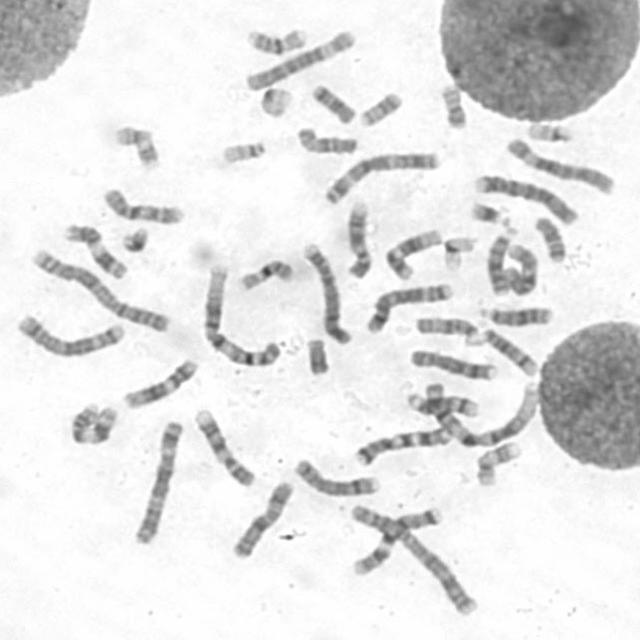A1: (195, 257, 284, 368), (419, 372, 542, 450)
A2: (343, 496, 481, 618), (25, 242, 171, 334)
A3: (127, 414, 186, 545), (317, 146, 443, 207)
B4: (468, 168, 580, 226), (297, 236, 354, 346)
B5: (11, 308, 126, 358), (359, 277, 455, 335)
C10: (97, 181, 186, 226), (500, 238, 540, 296)
C11: (58, 217, 130, 280), (64, 397, 119, 447)
C12: (117, 353, 200, 410), (378, 222, 444, 282)
C6: (239, 22, 358, 92), (499, 130, 618, 196)
C7: (346, 500, 445, 577), (348, 420, 455, 468)
C8: (288, 452, 381, 498), (403, 342, 500, 382)
C9: (188, 402, 257, 489), (340, 193, 374, 281)
D13: (480, 222, 518, 296), (473, 298, 554, 328)
D14: (474, 321, 540, 377), (401, 386, 483, 419)
D15: (409, 310, 485, 346), (291, 120, 360, 156)
E16: (232, 252, 296, 293), (240, 20, 309, 55)
E17: (470, 435, 522, 488), (108, 119, 162, 170)
E18: (306, 77, 358, 126), (528, 209, 568, 264)
F19: (437, 230, 478, 273), (253, 80, 294, 119)
F20: (353, 86, 405, 128), (434, 78, 470, 129)
G21: (462, 194, 514, 228), (115, 220, 152, 254)
G22: (214, 133, 268, 165), (521, 115, 575, 144)
X: (225, 475, 296, 561)
Y: (300, 332, 332, 377)
